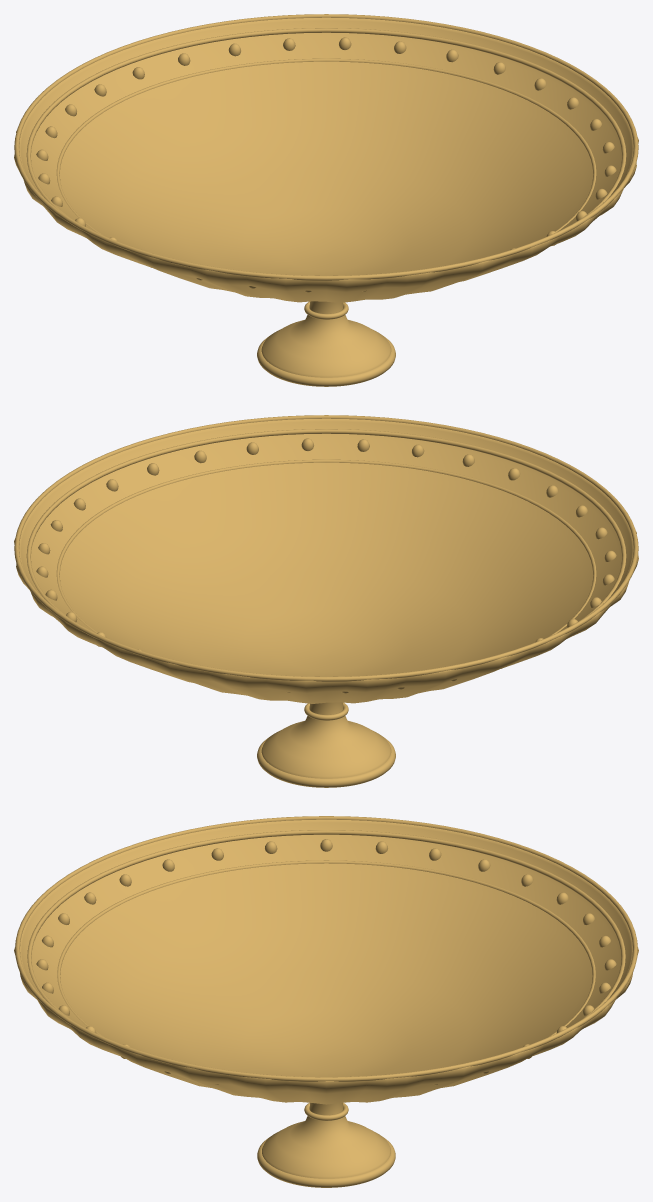
The model's file is bowl-v2.glb.
3 renders of one model, top to bottom at view 1: azimuth 30°, elevation 25°; view 2: azimuth 150°, elevation 25°; view 3: azimuth 270°, elevation 25°, orthographic.
Visible parts, largest first — view 1: MIDIS_Patera_V2_Thin_Wall; view 2: MIDIS_Patera_V2_Thin_Wall; view 3: MIDIS_Patera_V2_Thin_Wall.
Part boxes in pixels (x1,y1,x2,y2): MIDIS_Patera_V2_Thin_Wall: [14, 14, 638, 386]; MIDIS_Patera_V2_Thin_Wall: [14, 415, 638, 787]; MIDIS_Patera_V2_Thin_Wall: [14, 816, 638, 1187].
Size of the model in its own units: 1.78 by 0.671 by 1.78.
